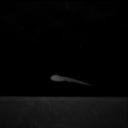fish: (50, 73, 92, 85)
